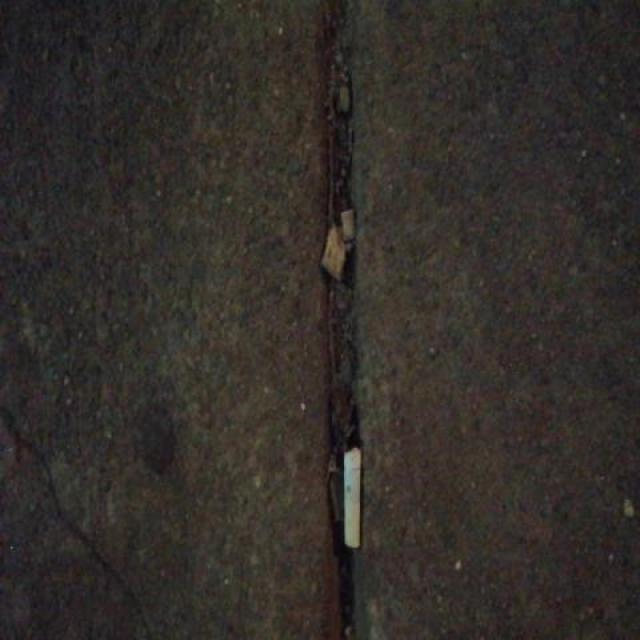non-organic waste: (340, 445, 364, 551)
